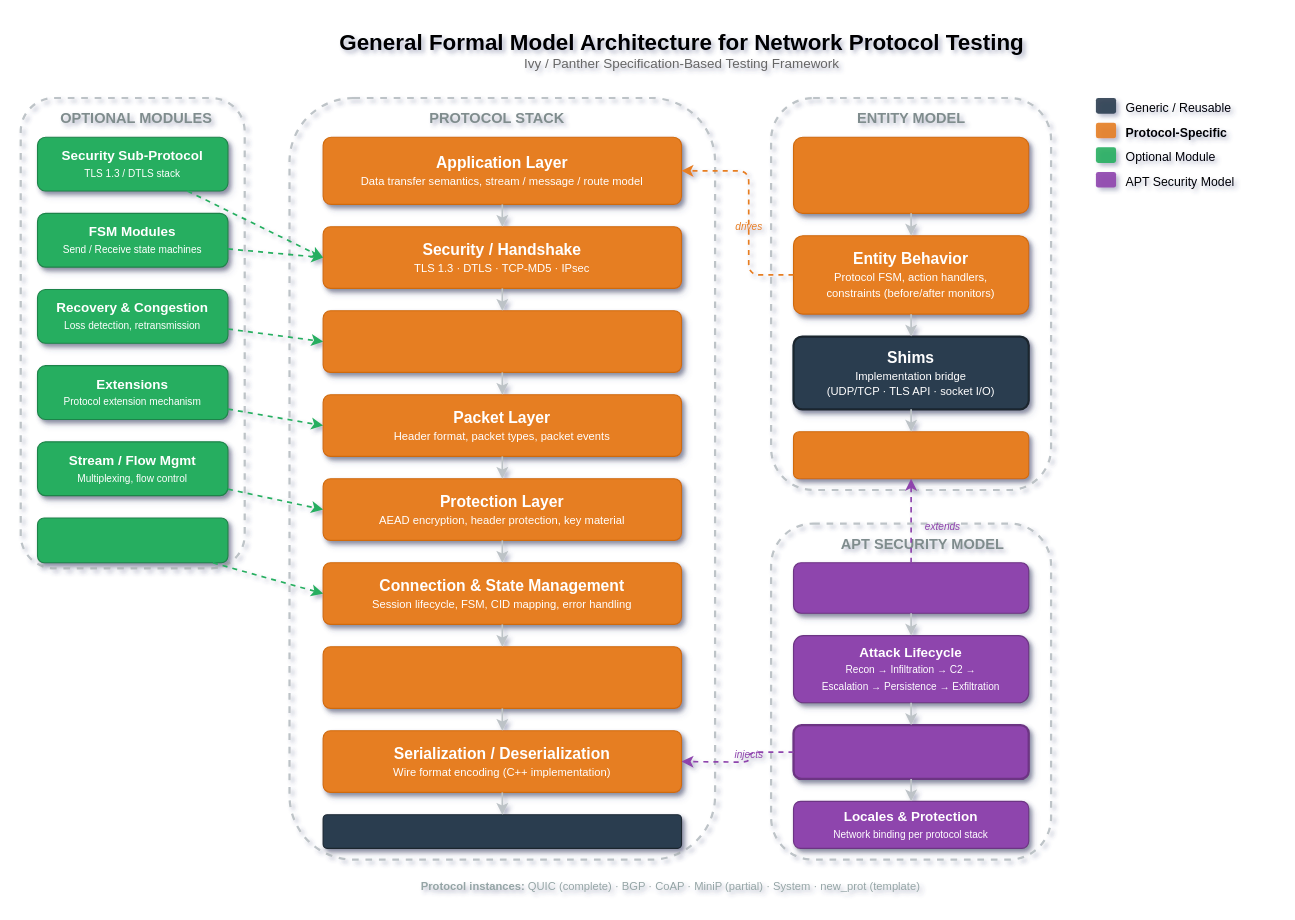
The diagram is 1295 pixels wide and 920 high, and some of its shapes have lost their labels. Each missing label, with the centre of its shape:
"APT Entities Attacker · Target · MIM · Bot · C2" belongs at point (911, 589).
"Attacks Stack Forged / replayed packets" belongs at point (133, 541).
"Entity Definitions Client · Server · Speaker MIM · Attacker · Victim" belongs at point (911, 176).
"Frame / Message Layer Protocol data units, frame types, handler actions" belongs at point (503, 342).
"Infrastructure byte_stream · file · time · random" belongs at point (503, 832).
"Protocol Bindings Malicious frames & packets per protocol" belongs at point (911, 753).
"Tests & Configuration Test harnesses · .dsc descriptors" belongs at point (911, 456).
"Types & Transport Parameters Identifiers, enums, bit vectors, negotiable params" belongs at point (503, 678).
